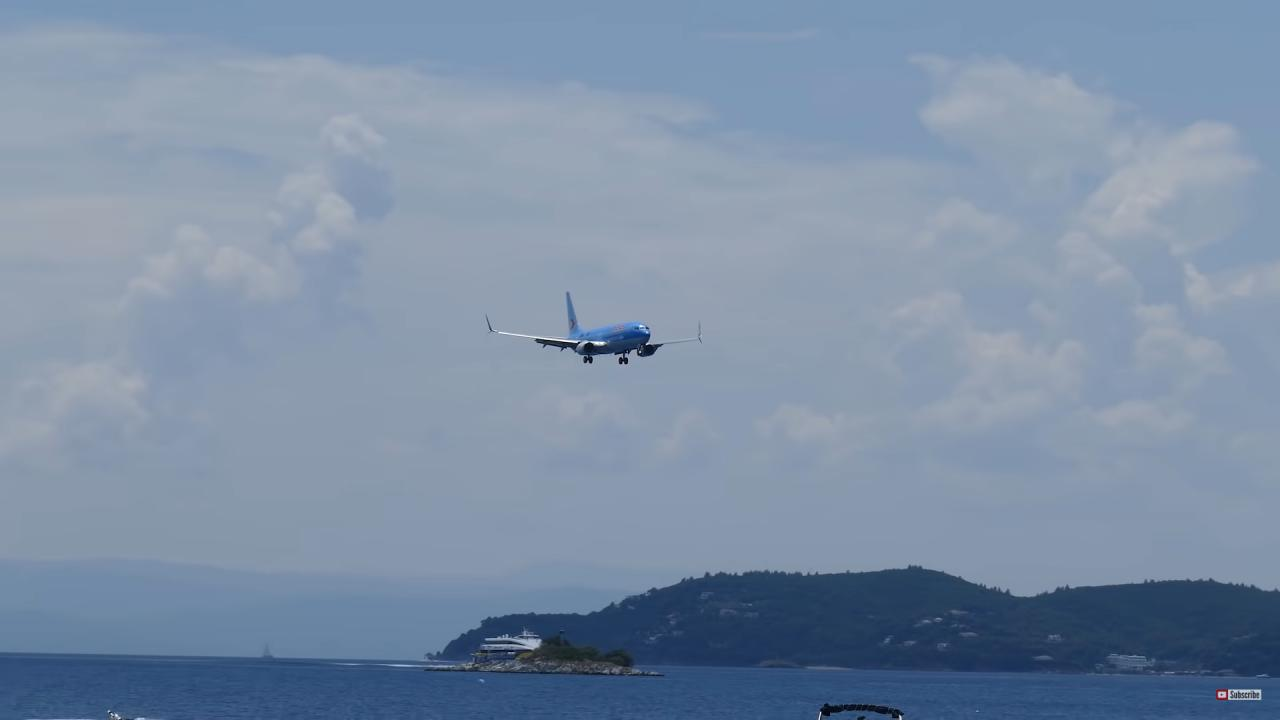Airplane: (473, 282, 718, 377)
